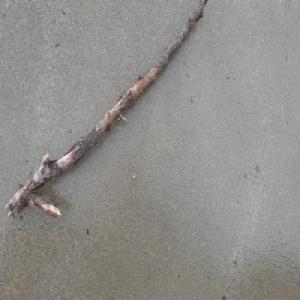Wood: (4, 0, 208, 221)
